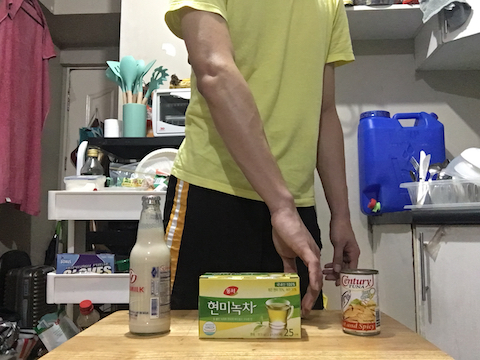bottle: (125, 192, 175, 341)
box: (192, 266, 305, 345)
can: (338, 266, 384, 341)
